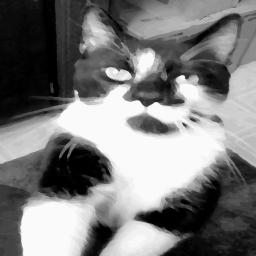catnose: (125, 87, 170, 108)
